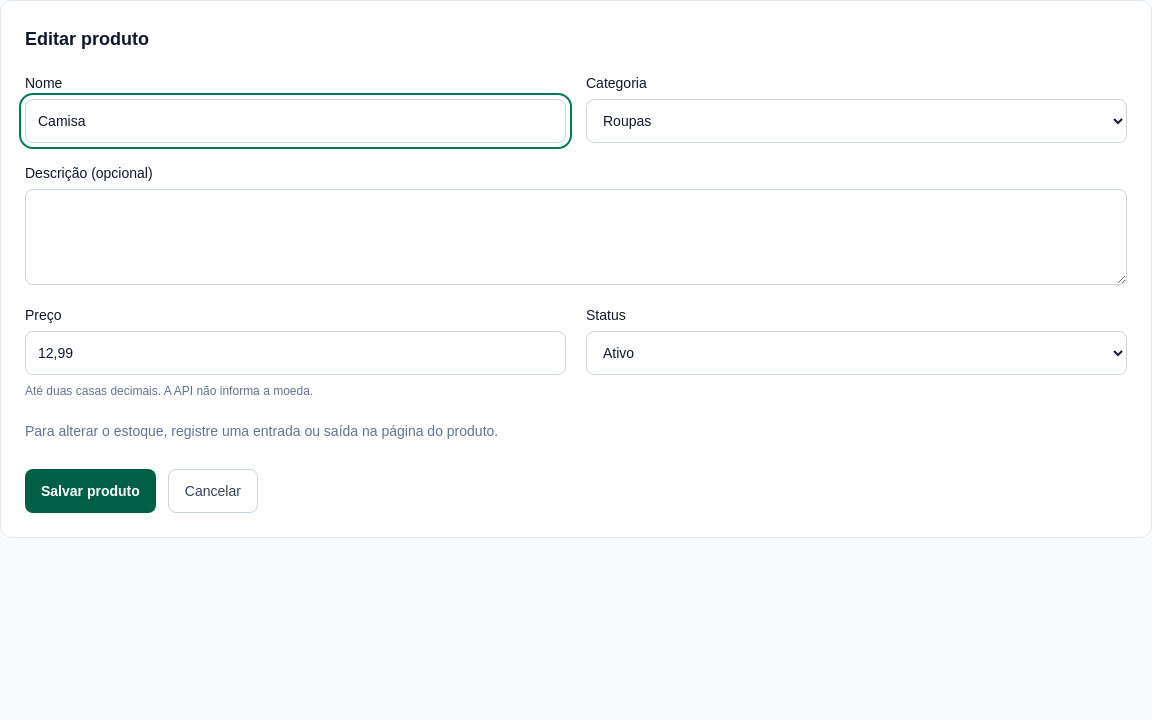
Test: formulário de produto › mantém dados preenchidos e apresenta o conflito retornado pela API
Replace the text in the field labelled "Nome" with "Novo nome" at (296, 121), box left=25, top=99, right=566, bottom=143
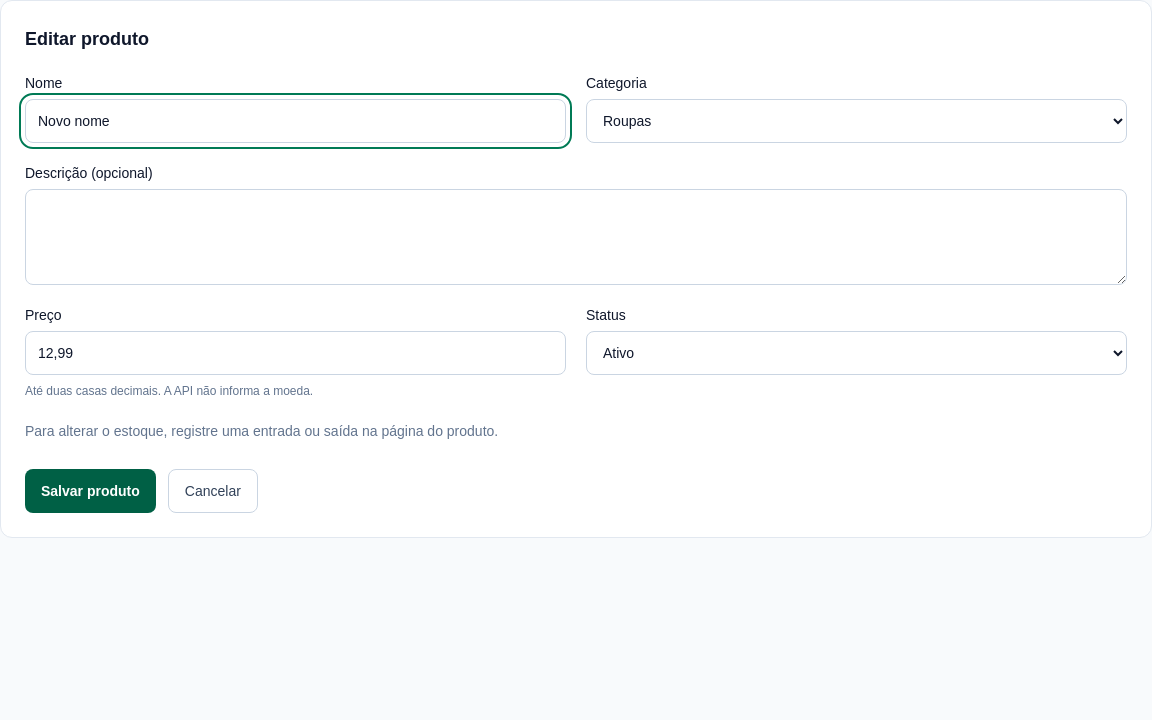
Submit the form "Editar produto"
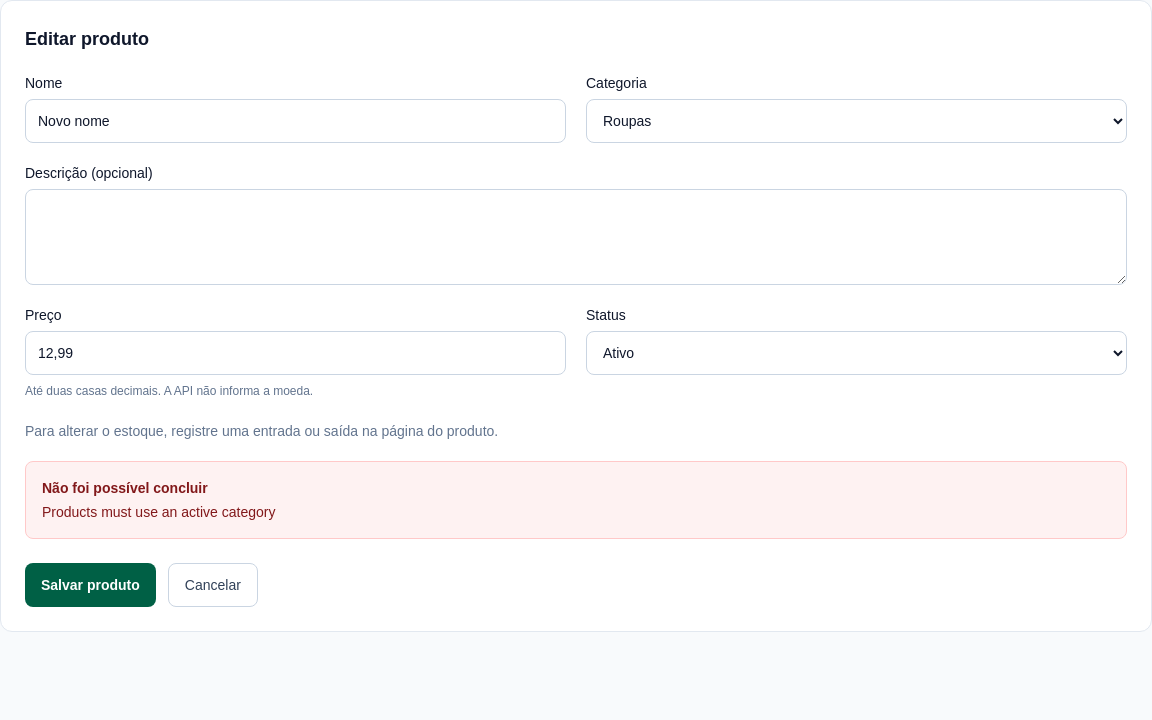
Result: the text "Products must use an active category" is shown at left=42, top=504, right=276, bottom=520
